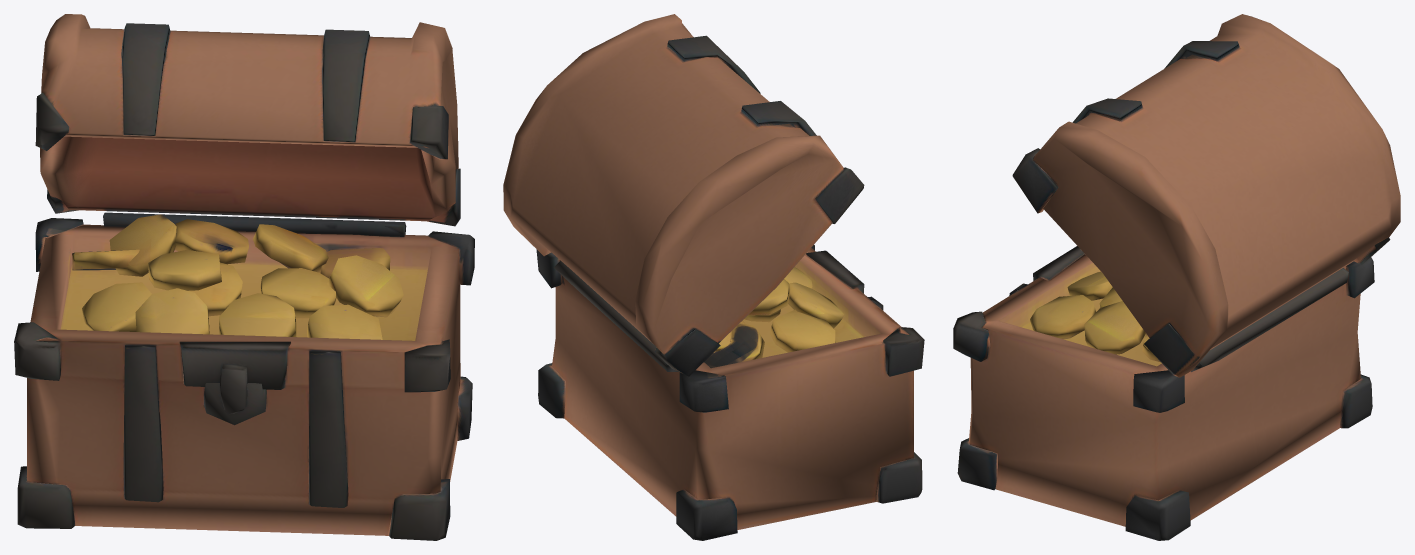
File: treasure-chest-open.glb
3 renders of one model, left to right at view 1: azimuth 30°, elevation 25°; view 2: azimuth 150°, elevation 25°; view 3: azimuth 270°, elevation 25°, orthographic. The views are drawn at different scales.
Parts seen in each view (by area): view 1: tripo_node_f74d8604-f87a-41cf-ae21-90b51a44adfb; view 2: tripo_node_f74d8604-f87a-41cf-ae21-90b51a44adfb; view 3: tripo_node_f74d8604-f87a-41cf-ae21-90b51a44adfb.
Boxes of the visible parts, <box> form: tripo_node_f74d8604-f87a-41cf-ae21-90b51a44adfb: <box>14,14,474,540</box>; tripo_node_f74d8604-f87a-41cf-ae21-90b51a44adfb: <box>503,14,924,540</box>; tripo_node_f74d8604-f87a-41cf-ae21-90b51a44adfb: <box>953,14,1400,540</box>.
Size of the model in its own units: 1.12 by 0.998 by 1.08.
Materials: 1 (1 with a texture image).
